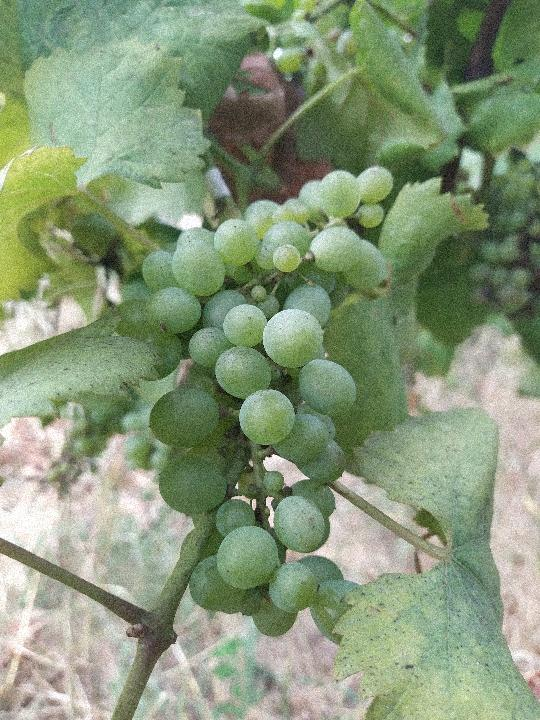grape: (116, 163, 397, 640)
